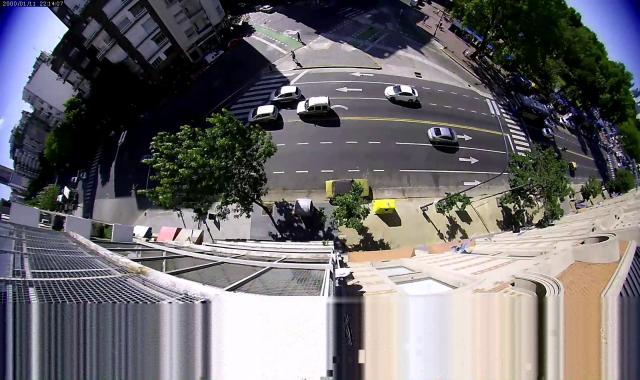bus: (508, 94, 550, 124), (64, 186, 77, 200), (56, 194, 67, 203)
car: (326, 179, 370, 198), (296, 96, 331, 117), (385, 85, 418, 103), (269, 86, 301, 104), (248, 105, 278, 124), (428, 127, 458, 144), (204, 50, 223, 64), (226, 38, 243, 49), (541, 128, 554, 138), (260, 4, 274, 12), (544, 119, 555, 128), (568, 162, 577, 170), (566, 121, 575, 129), (558, 118, 567, 125), (80, 172, 88, 179), (551, 114, 558, 121), (71, 177, 78, 183), (61, 188, 64, 194)
